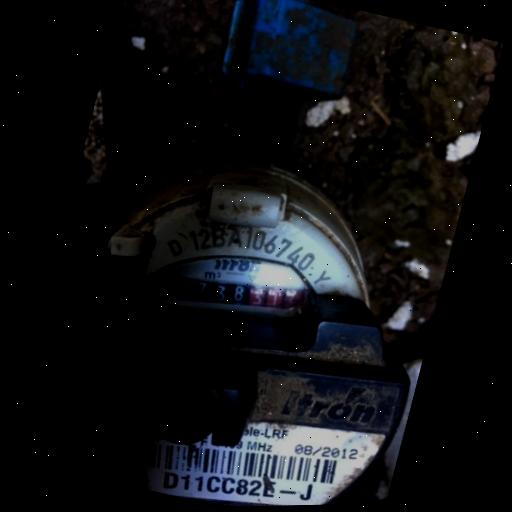0: (150, 273, 179, 303)
1: (171, 277, 197, 304), (262, 284, 288, 311)
3: (209, 278, 236, 307), (246, 282, 270, 309)
7: (189, 277, 217, 306)
8: (228, 281, 254, 308)
border_water_meter_number: (136, 240, 317, 346)
